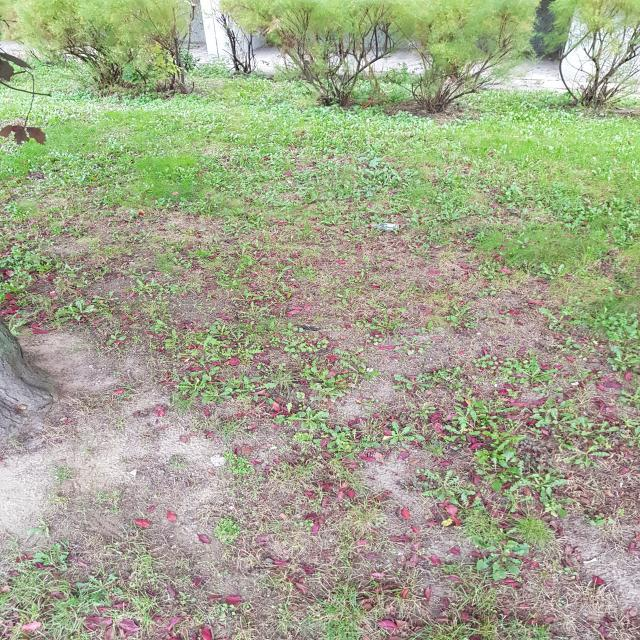rubbish: (295, 180, 308, 204)
